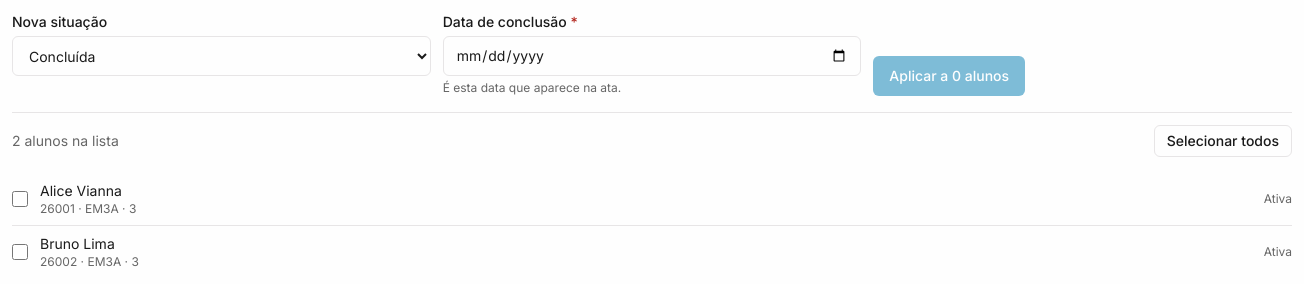
it: mudança de situação em lote › selecionar todos marca as caixas, que continuam à vista
The image size is (1304, 284).
Click the button "Selecionar todos".
click(1223, 141)  # box [1154,125,1292,157]
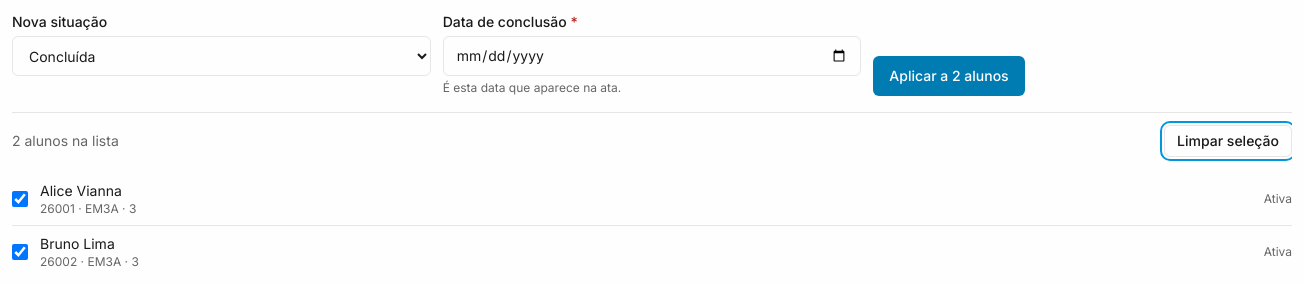
Result: the checkbox labelled "Alice Vianna 26001 · EM3A · 3 Ativa" is checked at [12,191,28,207]
Result: the checkbox labelled "Bruno Lima 26002 · EM3A · 3 Ativa" is checked at [12,244,28,260]
Result: the button "Aplicar a 2 alunos" is enabled at [873,56,1025,96]
